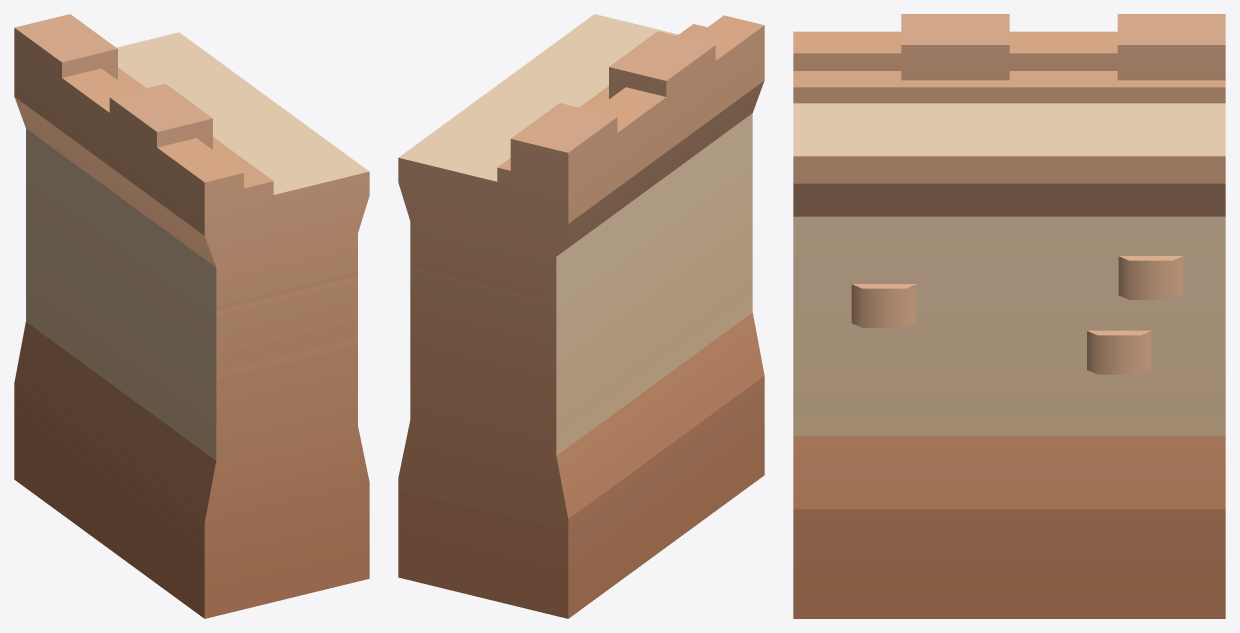
Rendered from wall-narrow.glb.
The picture shows the model from 3 angles, left to right: view 1: azimuth 30°, elevation 25°; view 2: azimuth 150°, elevation 25°; view 3: azimuth 270°, elevation 25°; orthographic projection. The views are drawn at different scales.
Visible parts, largest first — view 1: wall-narrow; view 2: wall-narrow; view 3: wall-narrow.
Boxes of the visible parts, <box> form: wall-narrow: <box>14,14,369,618</box>; wall-narrow: <box>398,14,764,618</box>; wall-narrow: <box>793,14,1225,618</box>.
Bounding box in the file's own units: 0.4999 × 1.31 × 1.
1 material, 1 textured.
